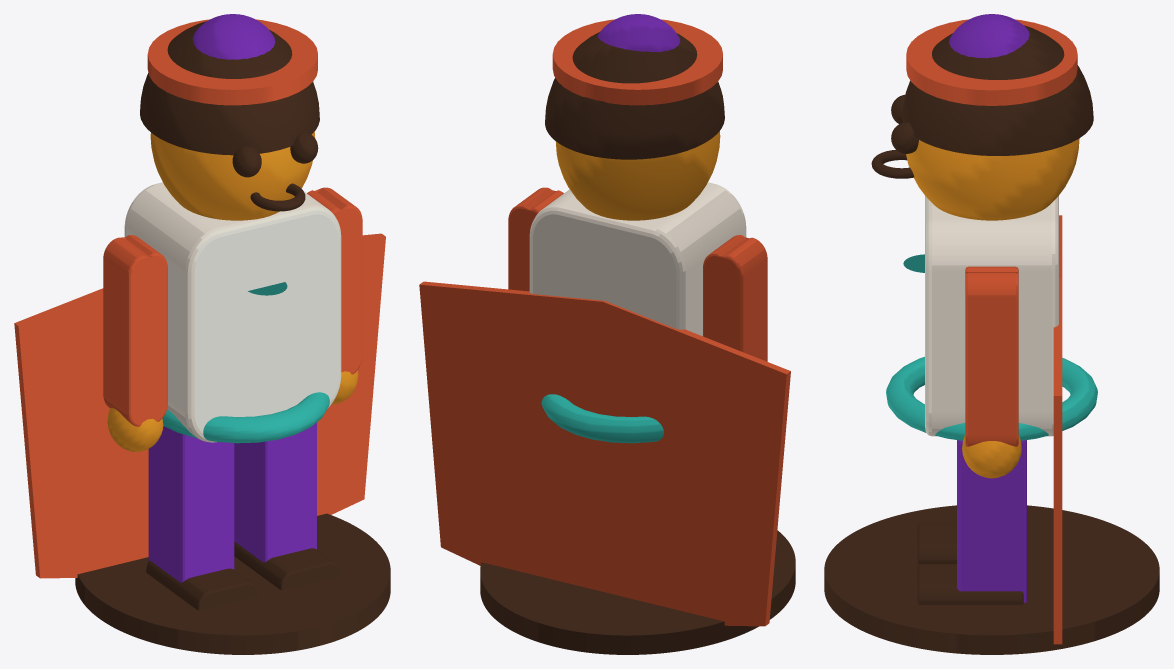
File: 1082_古文观止_阎公.glb
3 views of the same model, side by side, from view 1: azimuth 30°, elevation 25°; view 2: azimuth 150°, elevation 25°; view 3: azimuth 270°, elevation 25° (orthographic).
Parts seen in each view (by area): view 1: card_1082; view 2: card_1082; view 3: card_1082.
Boxes of the visible parts, bbox=[...] form: card_1082: bbox=[14, 14, 390, 654]; card_1082: bbox=[419, 14, 795, 654]; card_1082: bbox=[824, 14, 1159, 654].
Size of the model in its own units: 0.6637 by 1 by 0.5214.
